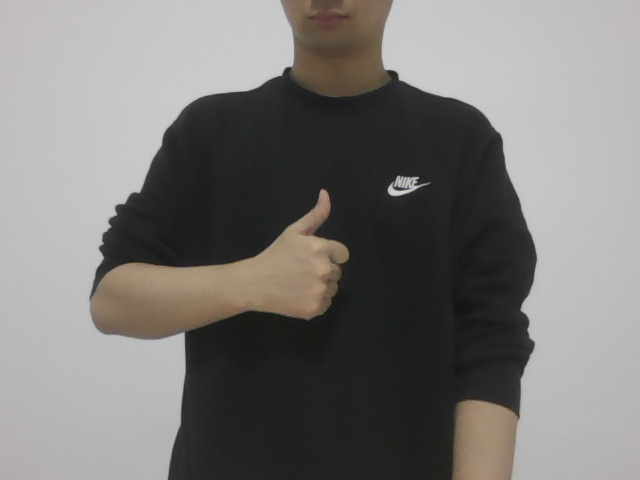good: (256, 182, 360, 328)
